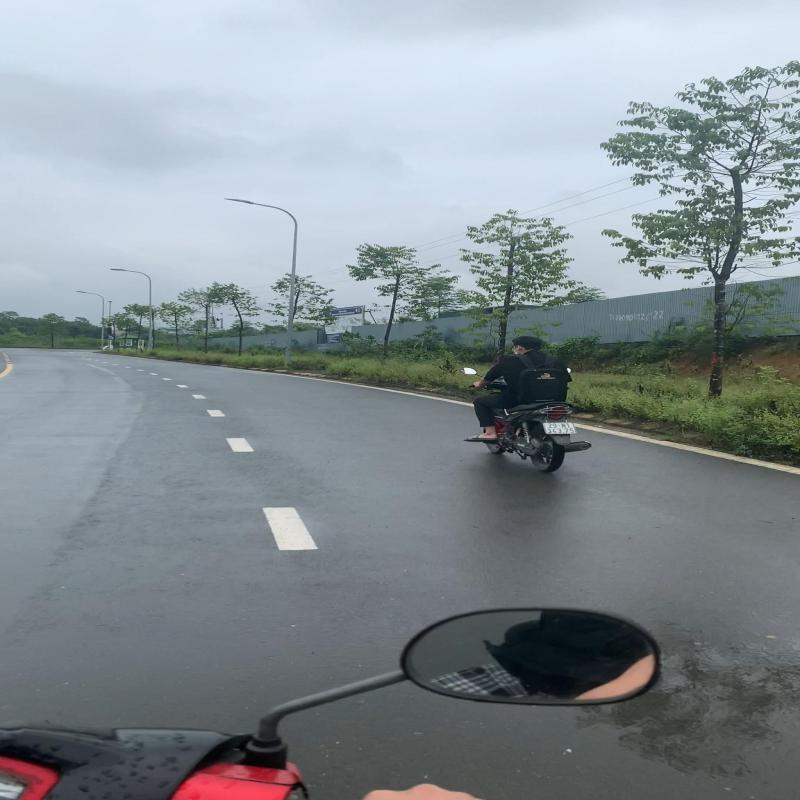licenseplate: (542, 422, 577, 435)
motorcyclist: (456, 334, 593, 474)
nohelmet: (512, 336, 541, 352)
